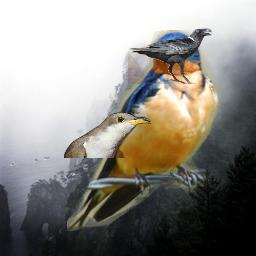Crow: (128, 27, 212, 84)
Cuckoo: (64, 112, 151, 158)
Swallow: (67, 30, 221, 231)
